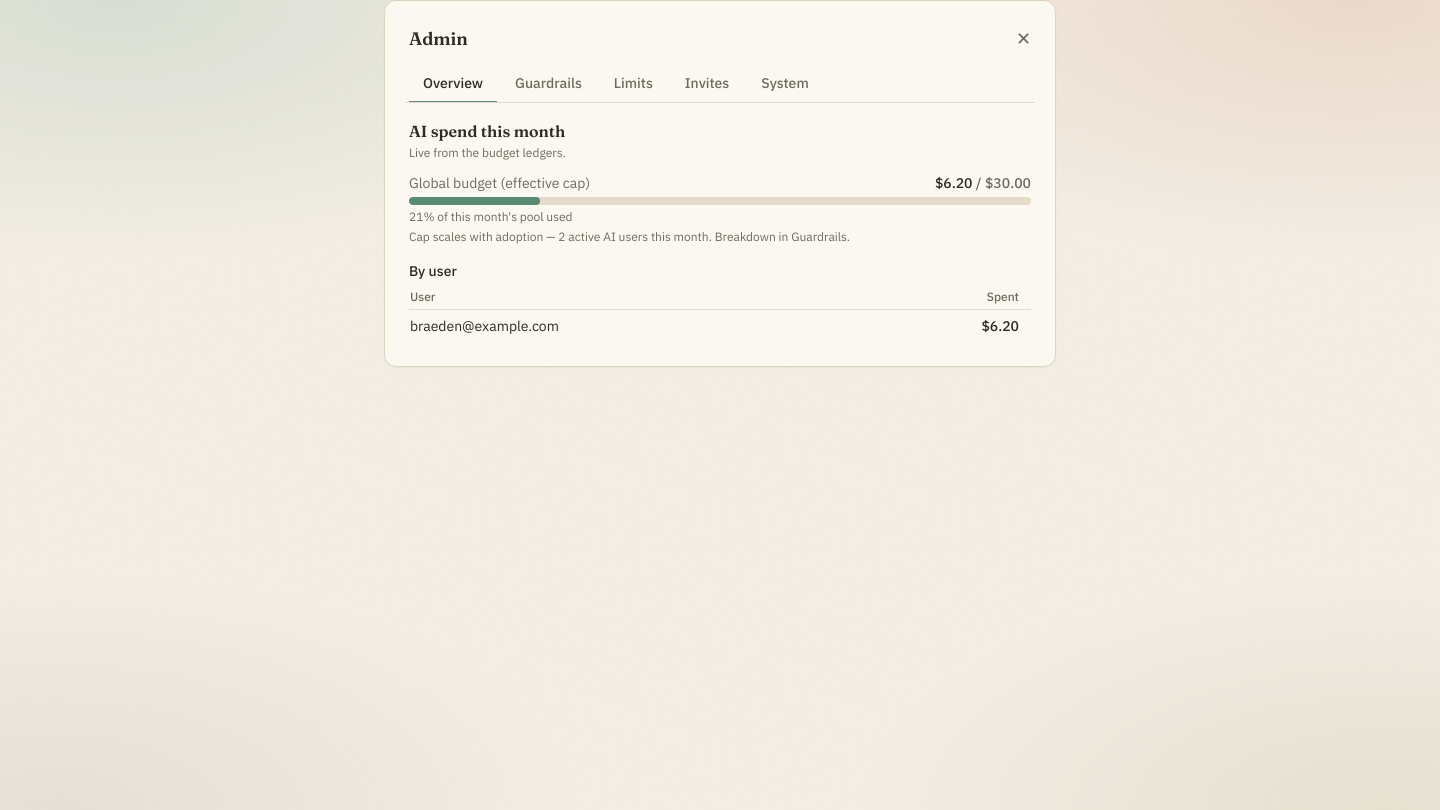
Test case: AdminPage › switches to the Limits tab and shows the grouped, read-only reference
This screenshot has width=1440, height=810.
Click the tab "Limits" at x=633, y=84, box left=600, top=65, right=667, bottom=103
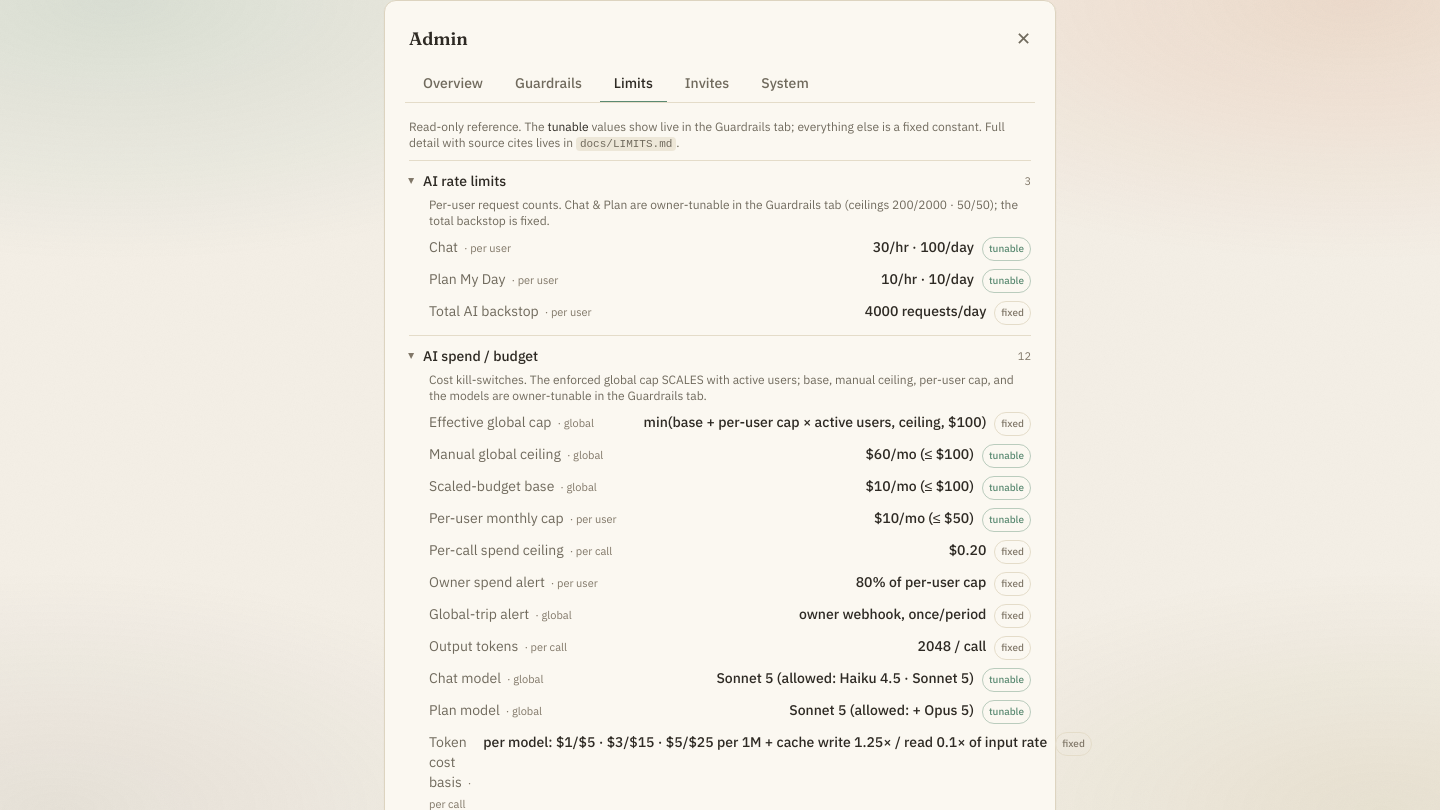
Expected: the text "AI rate limits" is shown, left=423, top=171, right=506, bottom=191
Expected: the text "30/hr · 100/day" is shown, left=873, top=237, right=974, bottom=257
Expected: the text "docs/LIMITS.md" is shown, left=576, top=137, right=676, bottom=151
